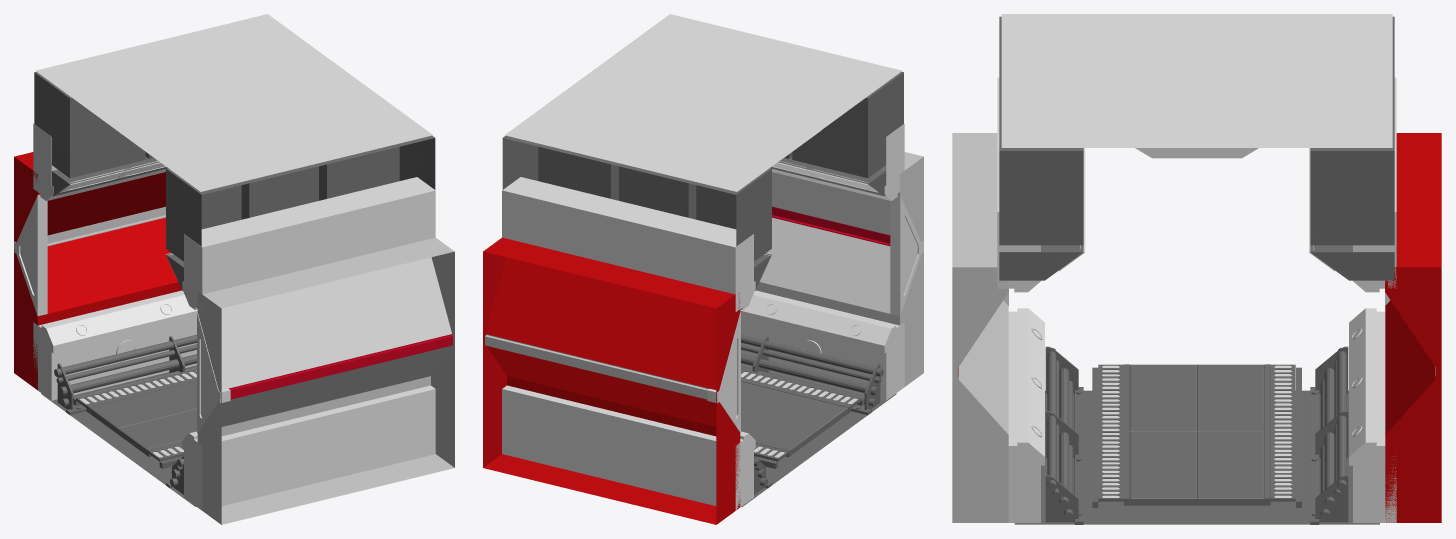
Rendered from Corridor_Chunk_1.fbx.
3 views of the same model, side by side, from view 1: azimuth 30°, elevation 25°; view 2: azimuth 150°, elevation 25°; view 3: azimuth 270°, elevation 25° (orthographic). The views are drawn at different scales.
Parts seen in each view (by area): view 1: Cube.026, Roof, Cube.033, Cube.011, Cube.014, Door_1___Corridor_EVERYTHING_21.123, Cube.047, Door_1___Corridor_EVERYTHING_21.132, Door_1___Corridor_EVERYTHING_21.001, Cube.046, Door_1___Corridor_EVERYTHING_21.035, Door_1___Corridor_EVERYTHING_21.033 (+9 smaller); view 2: Cube.033, Roof, Cube.026, Cube.044, Cube.047, Door_1___Corridor_EVERYTHING_21.132, Cube.011, Door_1___Corridor_EVERYTHING_21.123, Door_1___Corridor_EVERYTHING_21.033, Cube.012, Door_1___Corridor_EVERYTHING_21.035, Door_1___Corridor_EVERYTHING_21.001 (+9 smaller); view 3: Roof, Cube.026, Cube.033, Door_1___Corridor_EVERYTHING_21.123, Door_1___Corridor_EVERYTHING_21.132, Door_1___Corridor_EVERYTHING_21.035, Cube.047, Cube.011, Door_1___Corridor_EVERYTHING_21.032, Door_1___Corridor_EVERYTHING_21.030, Door_1___Corridor_EVERYTHING_21.033, Door_1___Corridor_EVERYTHING_21.001 (+22 smaller).
Part boxes in pixels (x1,y1,x2,y2): Cube.026: (197,237,454,524); Roof: (35,14,432,191); Cube.033: (14,152,181,390); Cube.011: (182,385,435,510); Cube.014: (182,177,435,310); Door_1___Corridor_EVERYTHING_21.123: (166,135,435,290); Cube.047: (33,290,197,400); Door_1___Corridor_EVERYTHING_21.132: (34,71,167,196); Door_1___Corridor_EVERYTHING_21.001: (89,381,196,433); Cube.046: (14,194,47,316); Door_1___Corridor_EVERYTHING_21.035: (41,365,196,506); Door_1___Corridor_EVERYTHING_21.033: (118,409,196,454); Cube.033: (483,237,740,524); Roof: (505,14,902,191); Cube.026: (756,152,923,386); Cube.044: (502,177,755,311); Cube.047: (502,385,755,510); Door_1___Corridor_EVERYTHING_21.132: (502,135,771,290); Cube.011: (740,290,904,400); Door_1___Corridor_EVERYTHING_21.123: (770,71,903,196); Door_1___Corridor_EVERYTHING_21.033: (741,381,848,433); Cube.012: (890,194,923,316); Door_1___Corridor_EVERYTHING_21.035: (741,365,896,506); Door_1___Corridor_EVERYTHING_21.001: (741,409,819,454); Roof: (1001,14,1392,158); Cube.026: (952,133,1008,522); Cube.033: (1385,133,1441,522); Door_1___Corridor_EVERYTHING_21.123: (999,16,1083,280); Door_1___Corridor_EVERYTHING_21.132: (1310,16,1394,280); Door_1___Corridor_EVERYTHING_21.035: (1014,390,1379,524); Cube.047: (1349,308,1396,522); Cube.011: (1008,308,1044,522); Door_1___Corridor_EVERYTHING_21.032: (1197,431,1264,505); Door_1___Corridor_EVERYTHING_21.030: (1129,432,1196,505); Door_1___Corridor_EVERYTHING_21.033: (1129,364,1196,431); Door_1___Corridor_EVERYTHING_21.001: (1197,364,1264,431).
Bounding box in the file's own units: 556 × 720 × 849.
